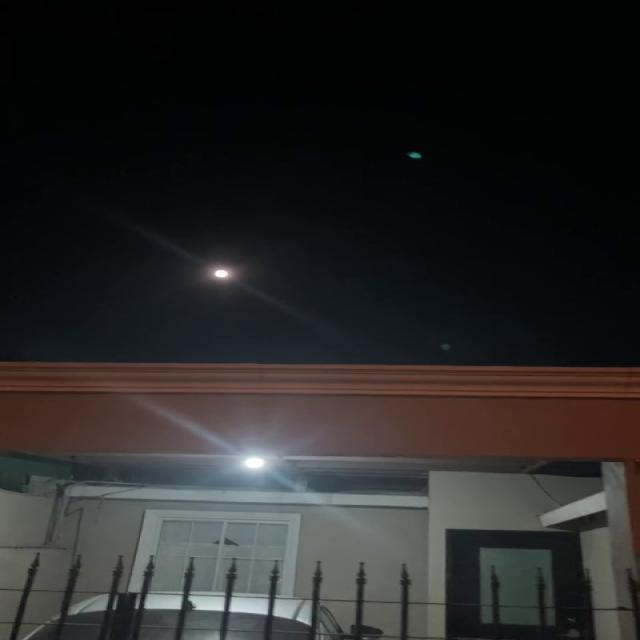moon: (211, 260, 235, 281)
